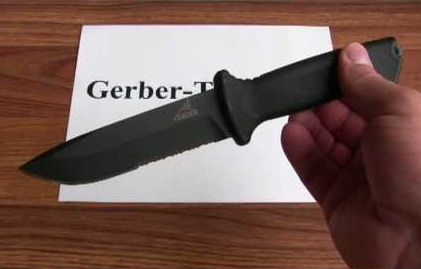knife: (7, 43, 369, 200)
